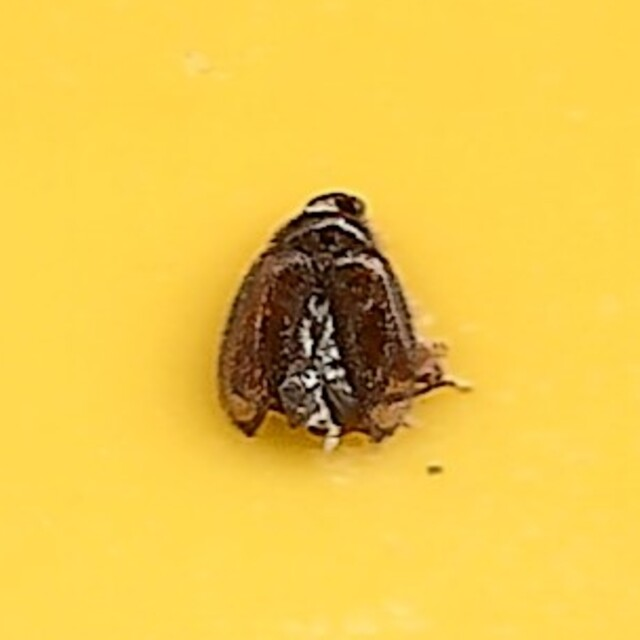Coleoptera: (211, 189, 429, 451)
